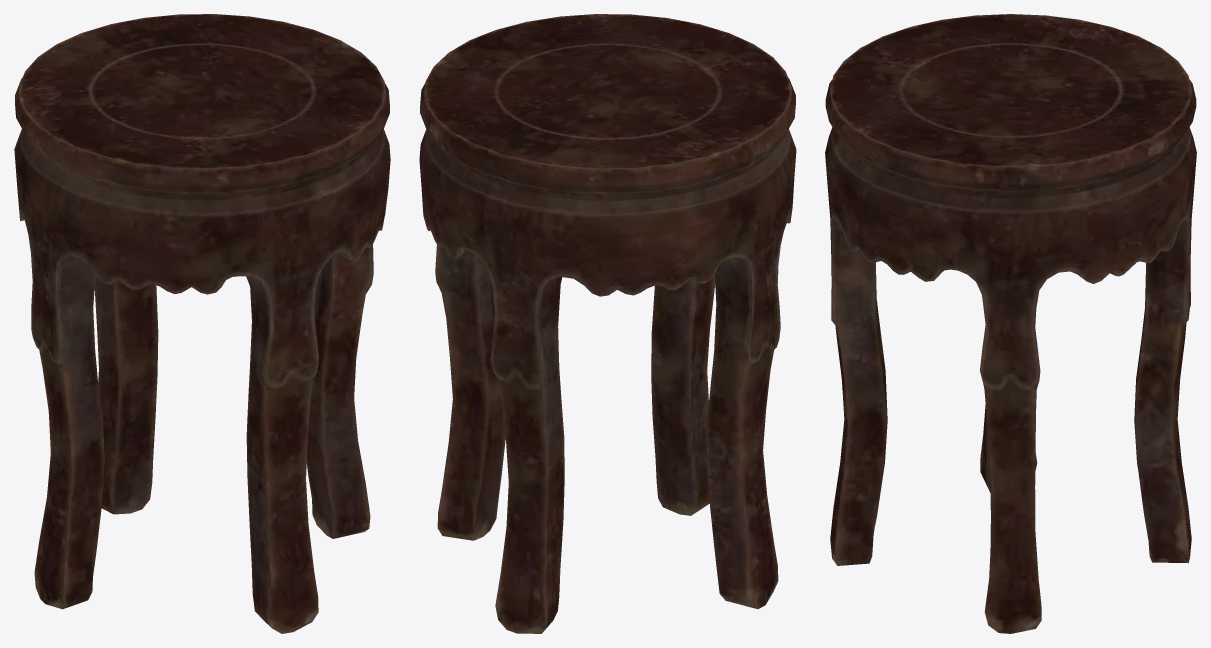
The picture shows the model from 3 angles, left to right: view 1: azimuth 30°, elevation 25°; view 2: azimuth 150°, elevation 25°; view 3: azimuth 270°, elevation 25°; orthographic projection.
Visible parts, largest first — view 1: WoodenTable_02; view 2: WoodenTable_02; view 3: WoodenTable_02.
Boxes of the visible parts, bbox=[...] form: WoodenTable_02: bbox=[14, 14, 390, 633]; WoodenTable_02: bbox=[419, 14, 796, 633]; WoodenTable_02: bbox=[825, 14, 1196, 633].
Size of the model in its own units: 0.3007 by 0.4177 by 0.3007.
1 material, 1 textured.
